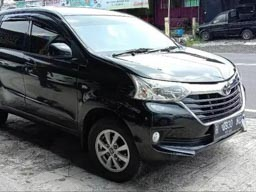plat: (213, 115, 244, 145)
